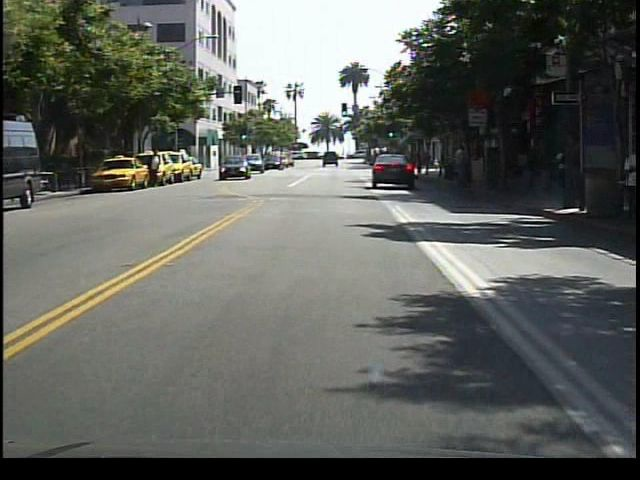person: (148, 149, 165, 191)
